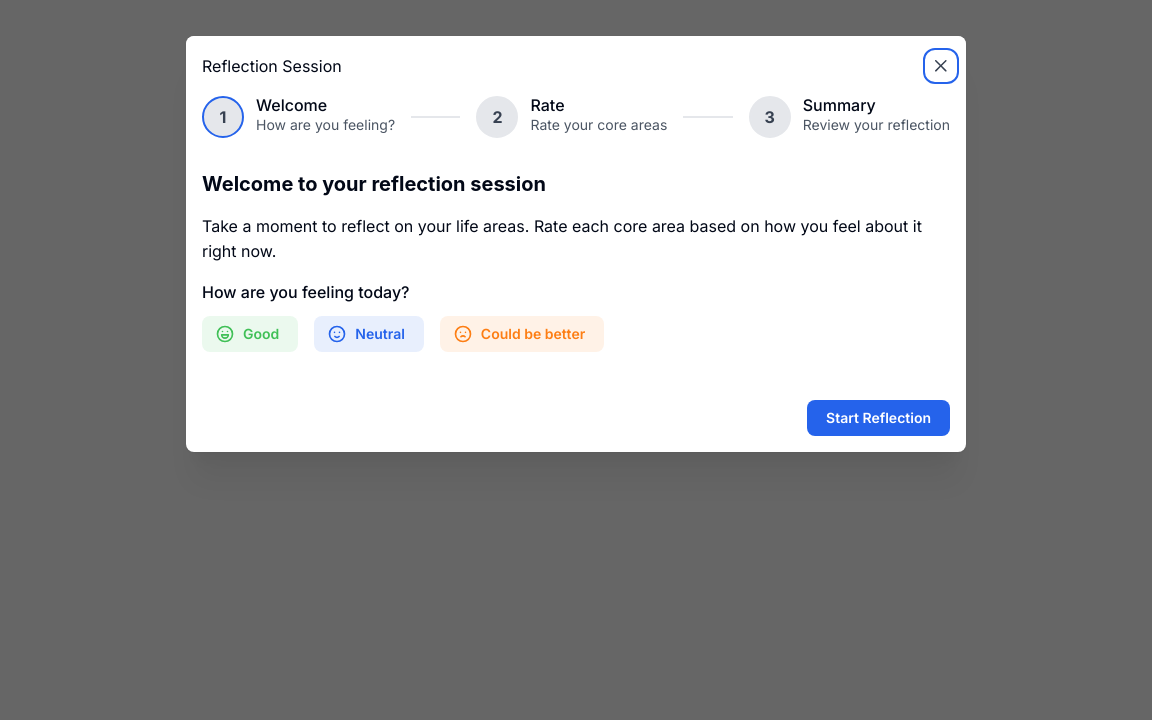
it: ReflectModal › displays themes in rating step
Click the button "Start Reflection" at (879, 418), box [807,400,950,436]
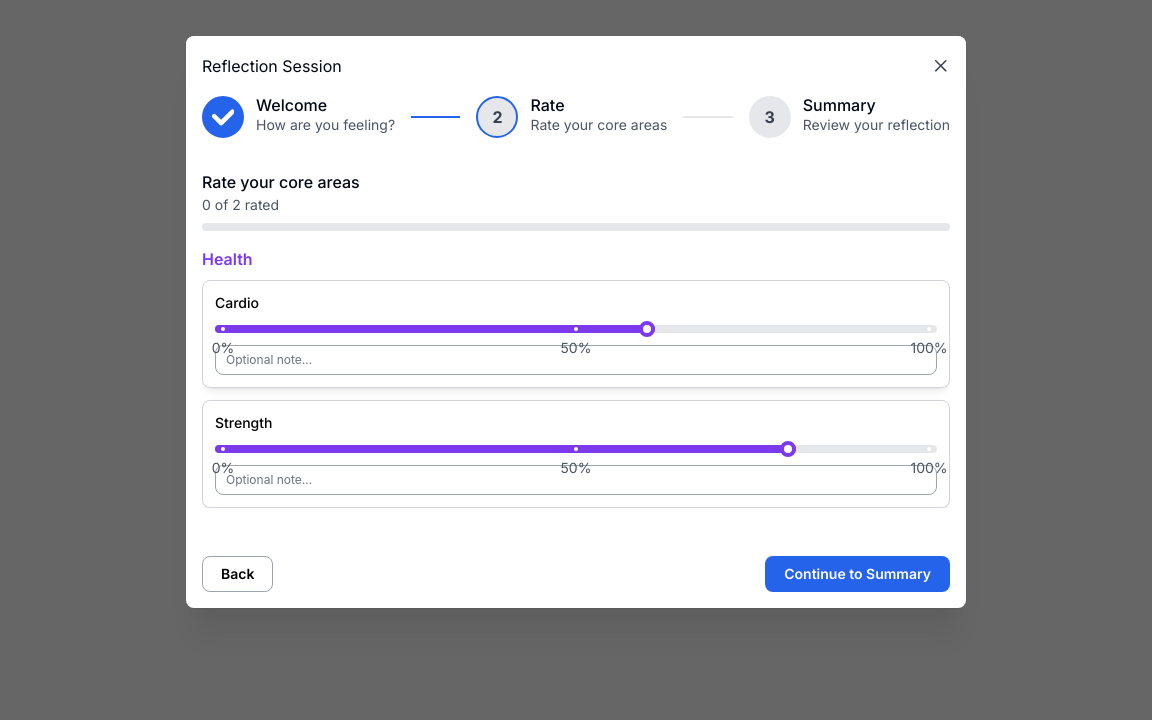
Expected: the text "Cardio" is shown, [215,294,259,311]
Expected: the text "Strength" is shown, [215,414,272,431]
